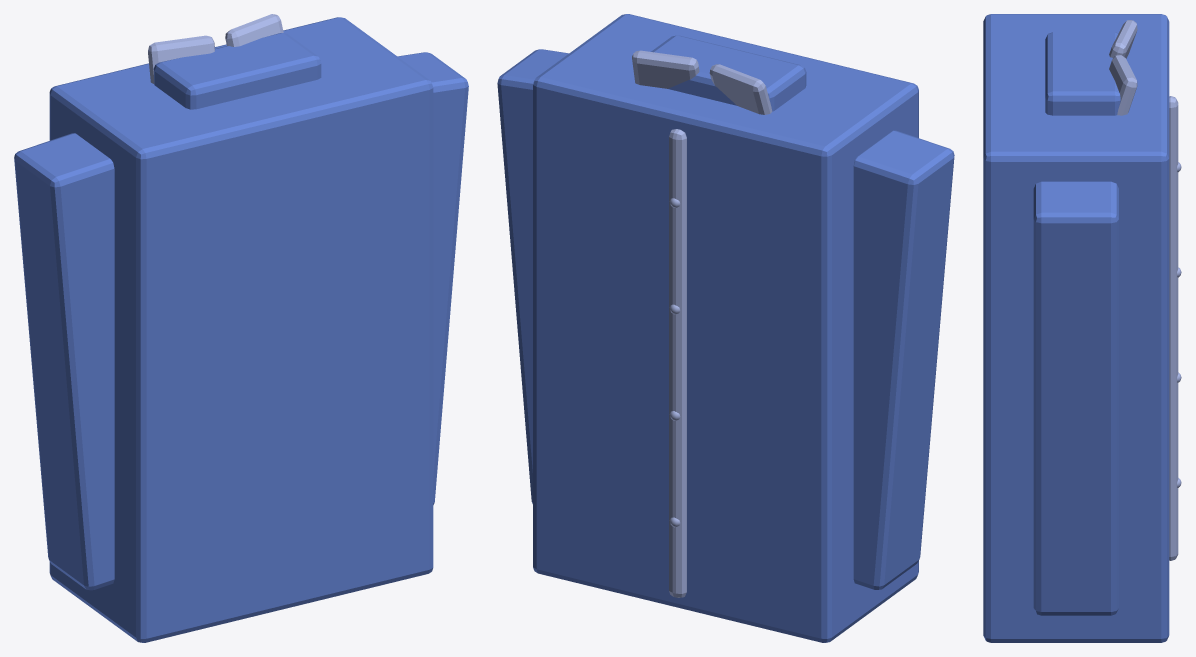
File: VM-CAB-002.glb
3 views of the same model, side by side, from view 1: azimuth 30°, elevation 25°; view 2: azimuth 150°, elevation 25°; view 3: azimuth 270°, elevation 25° (orthographic).
Parts seen in each view (by area): view 1: Camisa Slim Cobalto; view 2: Camisa Slim Cobalto; view 3: Camisa Slim Cobalto.
Part boxes in pixels (left/top/right/bottom): Camisa Slim Cobalto: left=14, top=14, right=468, bottom=642; Camisa Slim Cobalto: left=497, top=14, right=954, bottom=642; Camisa Slim Cobalto: left=983, top=14, right=1181, bottom=642.
Size of the model in its own units: 0.6835 by 0.8247 by 0.2821.
